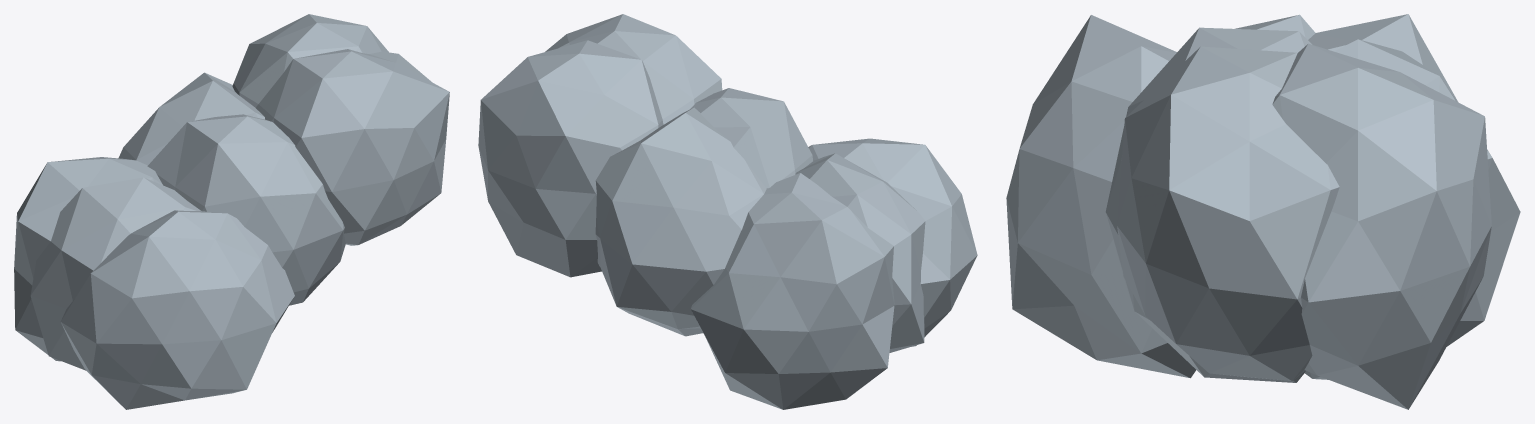
Rendered from a3_rock.glb.
3 views of the same model, side by side, from view 1: azimuth 30°, elevation 25°; view 2: azimuth 150°, elevation 25°; view 3: azimuth 270°, elevation 25° (orthographic). The views are drawn at different scales.
Parts seen in each view (by area): view 1: Body.025; view 2: Body.025; view 3: Body.025.
Boxes of the visible parts, bbox=[...] form: Body.025: bbox=[14, 14, 449, 409]; Body.025: bbox=[478, 14, 977, 409]; Body.025: bbox=[1006, 14, 1520, 409].
Size of the model in its own units: 2.05 by 1.41 by 1.42.
